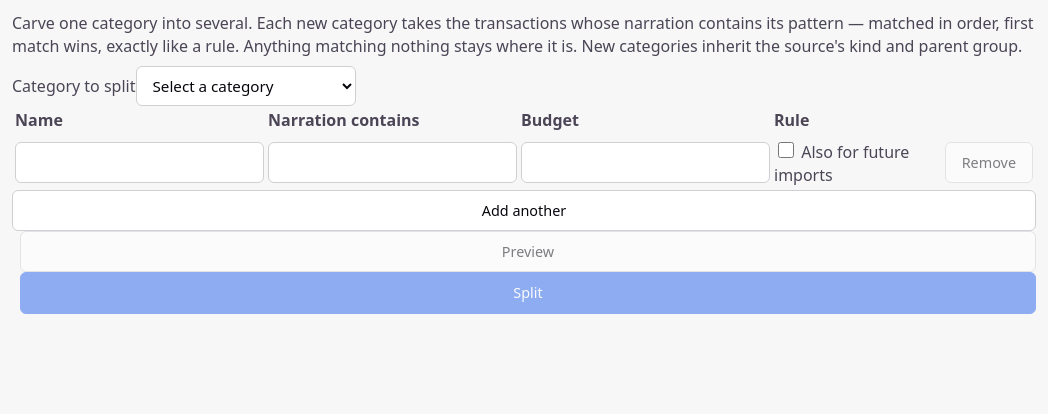
CategorySplitter › drops a stale preview the moment a pattern changes
The image size is (1048, 414).
Select "Groceries" in the dropdown labelled "Category to split": (246, 86) [136,66,356,106]
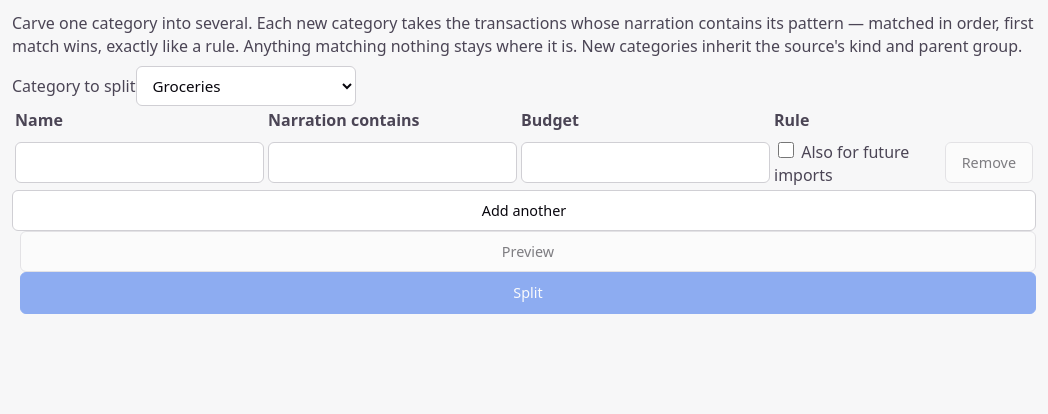
In the field named "Name for new category 1": (140, 163) [15,142,264,183], type "Alcohol"
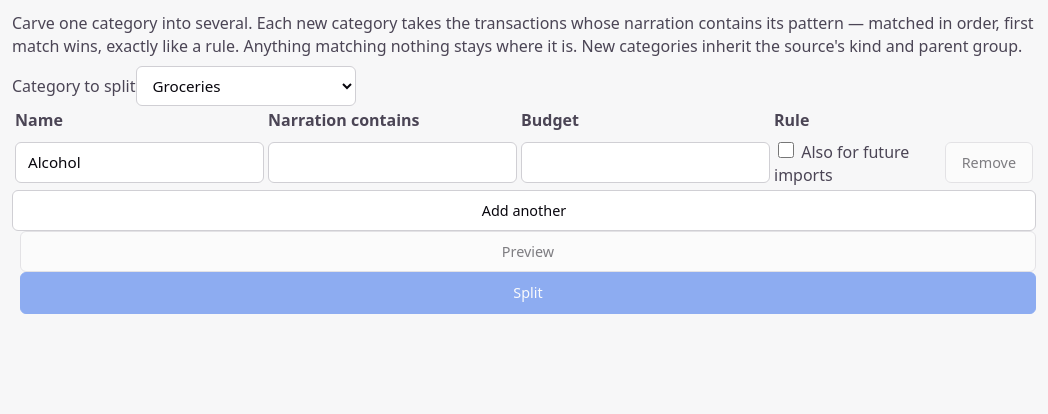
In the field named "Narration pattern for new category 1": (392, 163) [268,142,517,183], type "bws"
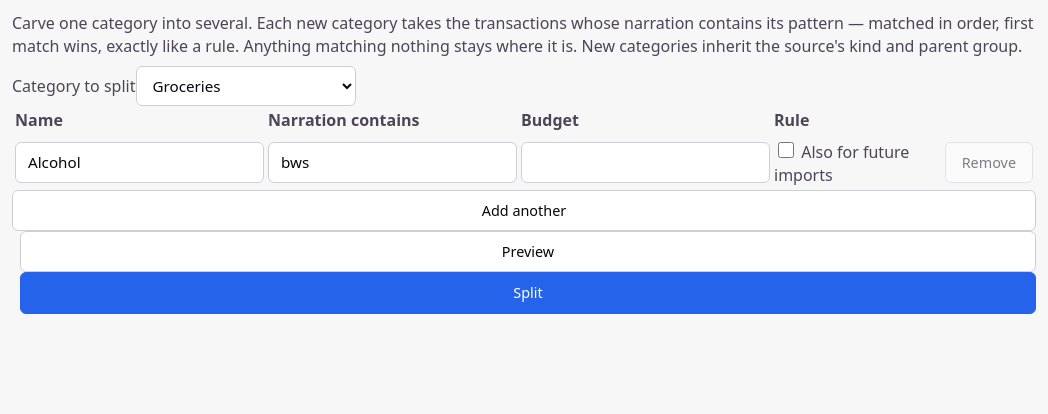
Click the button "Preview": (528, 252) [20,231,1036,272]
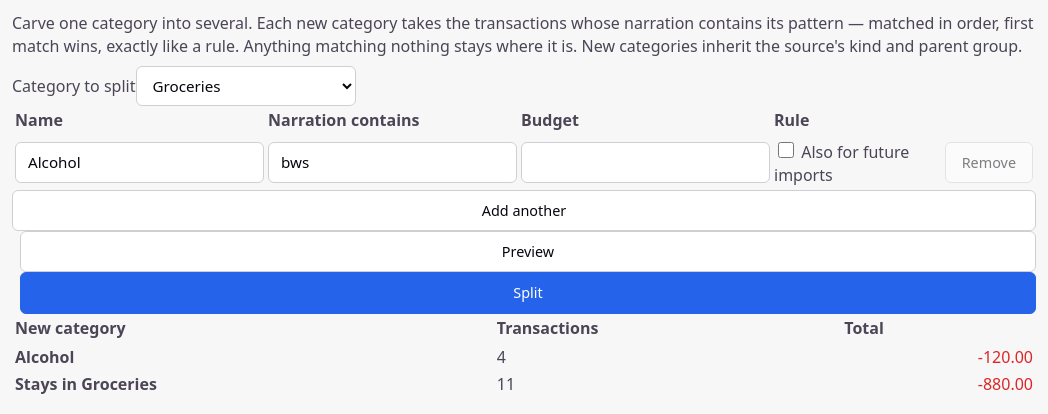
Expected: the column heading "Stays in Groceries" is shown, [14,372,494,397]
Replace the text in the field named "Narration pattern for new category 1" with "liquor": (392, 163) [268,142,517,183]
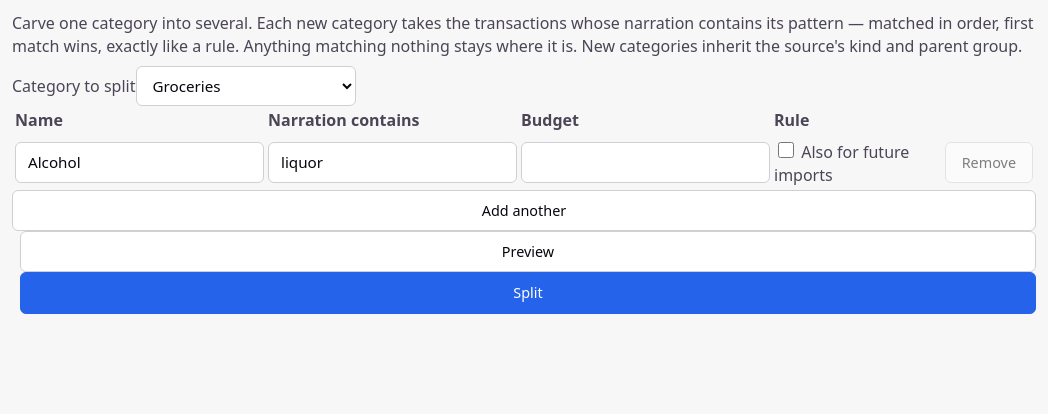
Expected: the column heading "Stays in Groceries" is gone
